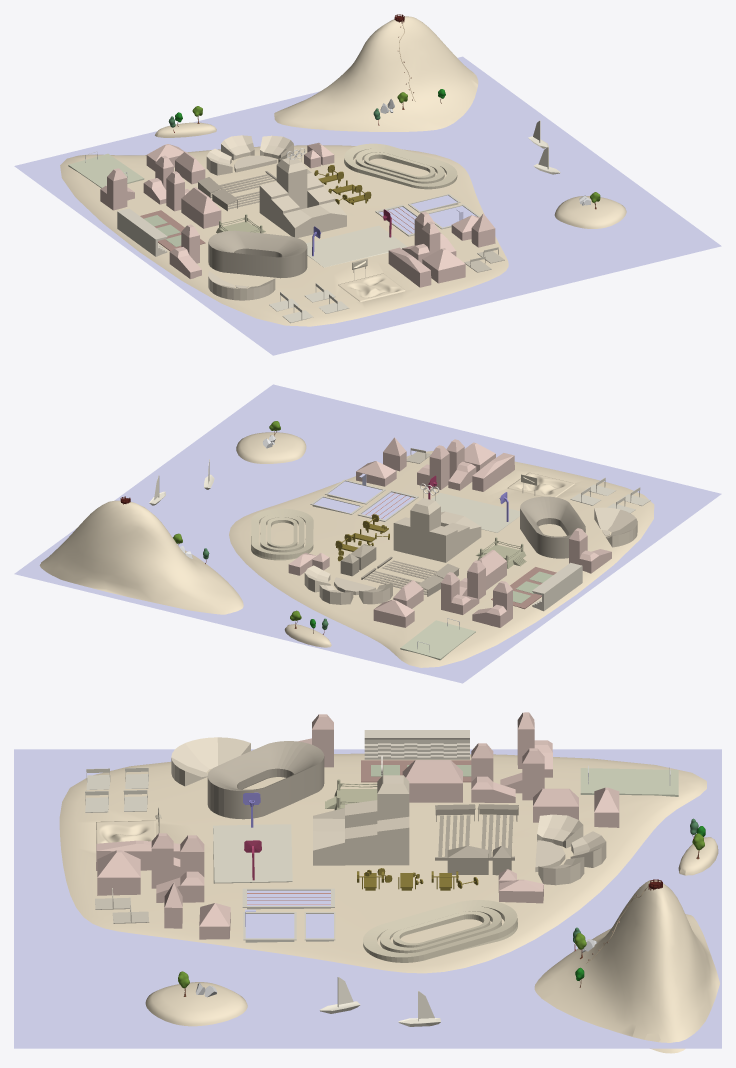
The model's file is terrain.glb.
3 views of the same model, one above another, from view 1: azimuth 30°, elevation 25°; view 2: azimuth 150°, elevation 25°; view 3: azimuth 270°, elevation 25° (orthographic). The views are drawn at different scales.
Visible parts, largest first — view 1: Floor, sol2, sol3, maison1, village olympique, stade-athlé, maison5, stade-hippique, basket, palestre, sol1, stand de tir (+13 smaller); view 2: Floor, sol2, sol3, maison1, village olympique, maison5, stade-athlé, stade-hippique, stand de tir, palestre, basket, sol1 (+14 smaller); view 3: Floor, sol2, sol3, maison1, village olympique, stade-athlé, maison5, stade-hippique, basket, stand de tir, palestre, sol1 (+17 smaller).
Boxes of the visible parts, left/top/right/bottom form: Floor: left=14, top=56, right=721, bottom=355; sol2: left=60, top=122, right=508, bottom=326; sol3: left=274, top=16, right=478, bottom=131; maison1: left=100, top=144, right=221, bottom=228; village olympique: left=259, top=148, right=346, bottom=237; stade-athlé: left=208, top=230, right=307, bottom=278; maison5: left=388, top=211, right=465, bottom=287; stade-hippique: left=344, top=143, right=457, bottom=189; basket: left=306, top=209, right=407, bottom=267; palestre: left=206, top=135, right=293, bottom=175; sol1: left=554, top=196, right=626, bottom=228; stand de tir: left=197, top=154, right=311, bottom=211; Floor: left=14, top=384, right=721, bottom=683; sol2: left=229, top=451, right=654, bottom=667; sol3: left=39, top=500, right=243, bottom=614; maison1: left=373, top=550, right=512, bottom=627; village olympique: left=393, top=483, right=481, bottom=562; maison5: left=417, top=439, right=514, bottom=491; stade-athlé: left=520, top=496, right=585, bottom=558; stade-hippique: left=251, top=508, right=313, bottom=560; stand de tir: left=340, top=544, right=459, bottom=596; palestre: left=304, top=565, right=392, bottom=604; basket: left=428, top=475, right=519, bottom=532; sol1: left=236, top=432, right=306, bottom=463; Floor: left=14, top=749, right=721, bottom=1048; sol2: left=59, top=753, right=718, bottom=973; sol3: left=534, top=880, right=719, bottom=1053; maison1: left=402, top=712, right=619, bottom=827; village olympique: left=313, top=755, right=409, bottom=865; stade-athlé: left=207, top=741, right=324, bottom=819; maison5: left=96, top=833, right=204, bottom=902; stade-hippique: left=363, top=900, right=517, bottom=962; basket: left=213, top=792, right=292, bottom=883; stand de tir: left=435, top=804, right=518, bottom=875; palestre: left=535, top=814, right=606, bottom=885; sol1: left=145, top=982, right=247, bottom=1026.
Size of the model in its own units: 100 by 18.04 by 100.
